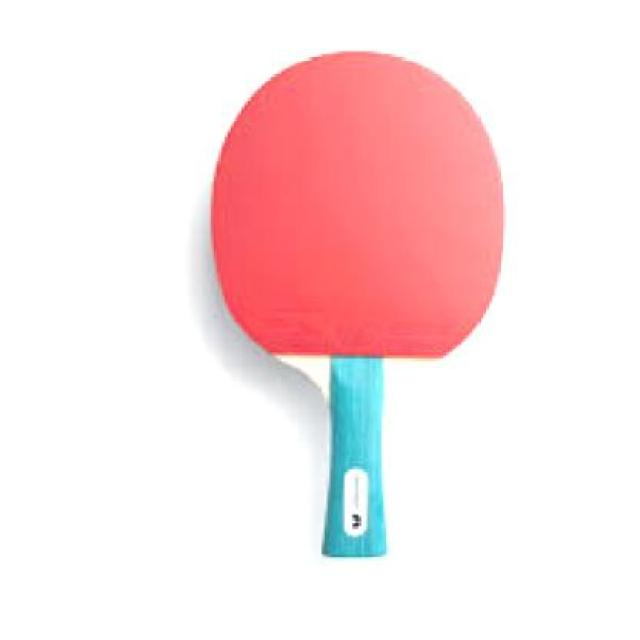table_tennis_racket: (209, 52, 511, 572)
